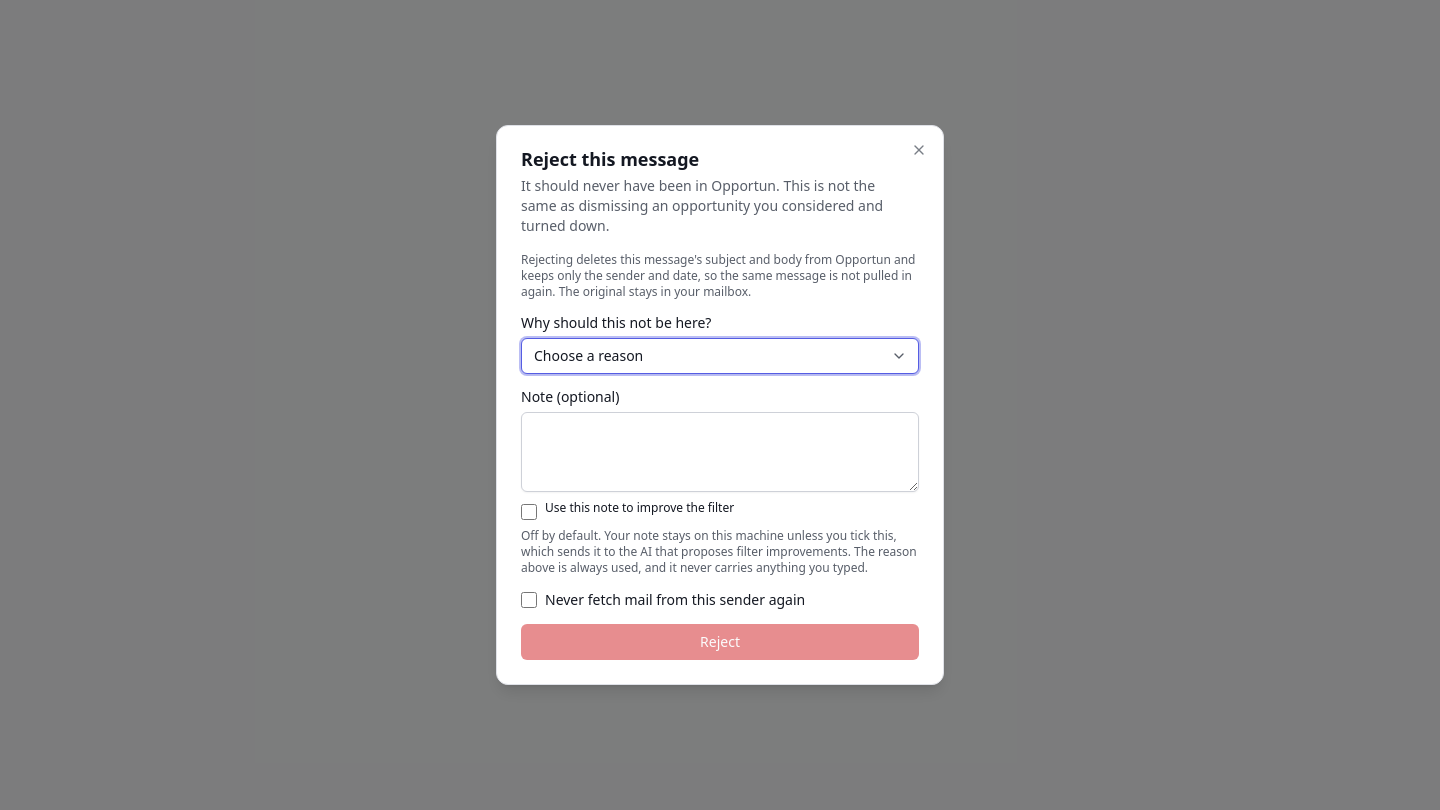
RejectDialog › does not claim "blocked" when the server reports the block could not be established
This screenshot has width=1440, height=810.
Step 1. Select "Medical or personal" in the dropdown labelled "Why should this not be here?" → (720, 356), box [521, 338, 919, 374]
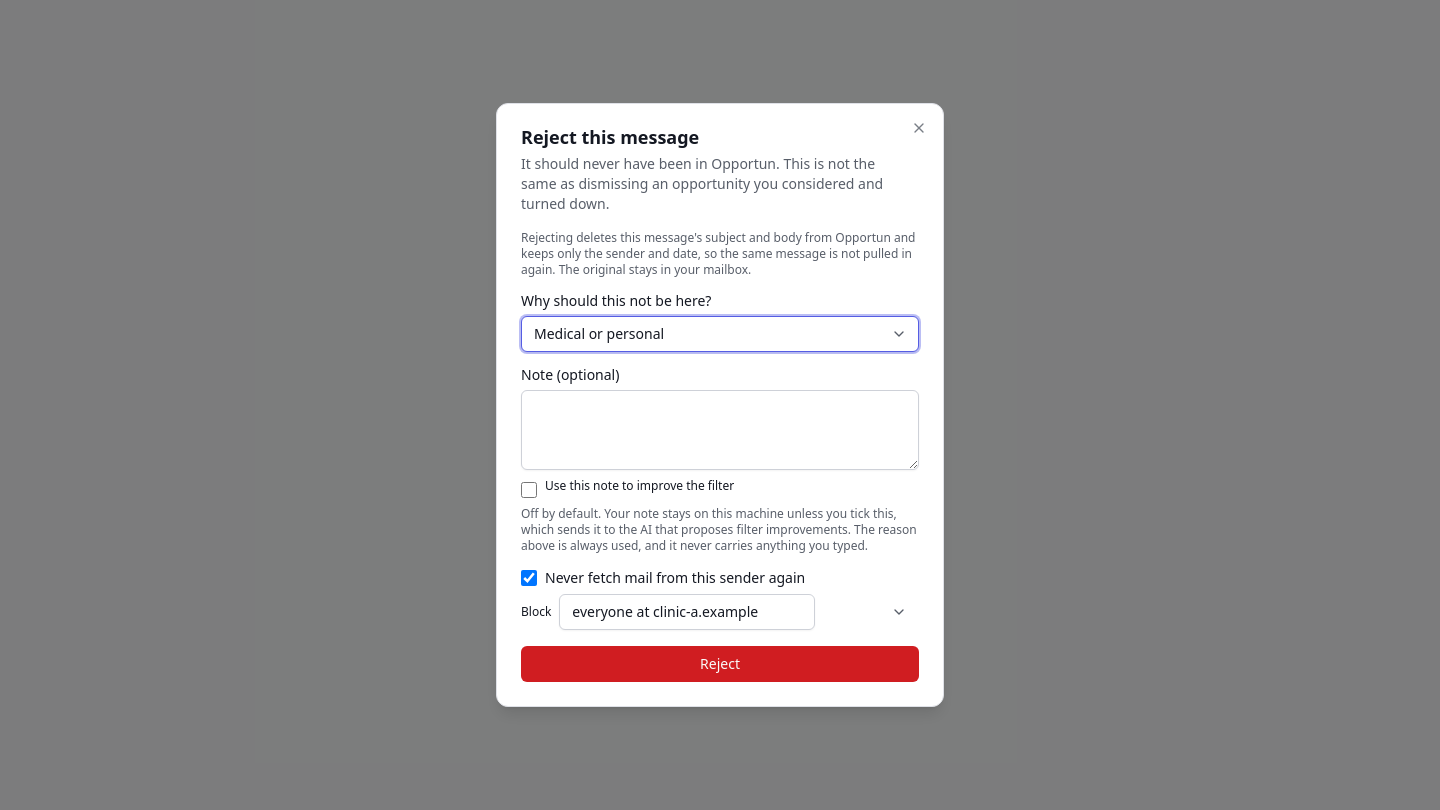
Step 2. Click the button "Reject" → (720, 664), box [521, 646, 919, 682]
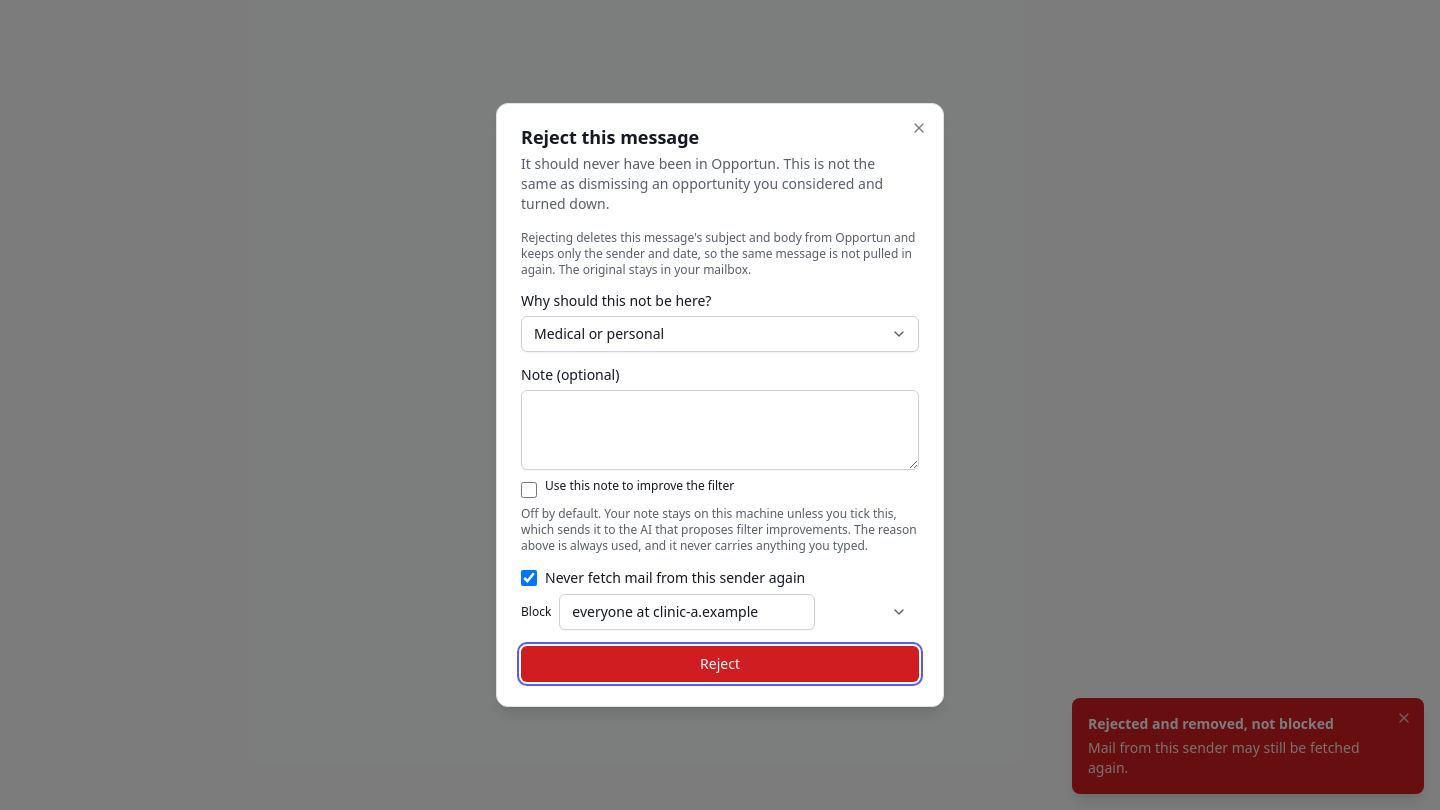
Expected: the text "Rejected and removed, not blocked" is shown, [1088, 714, 1334, 733]
